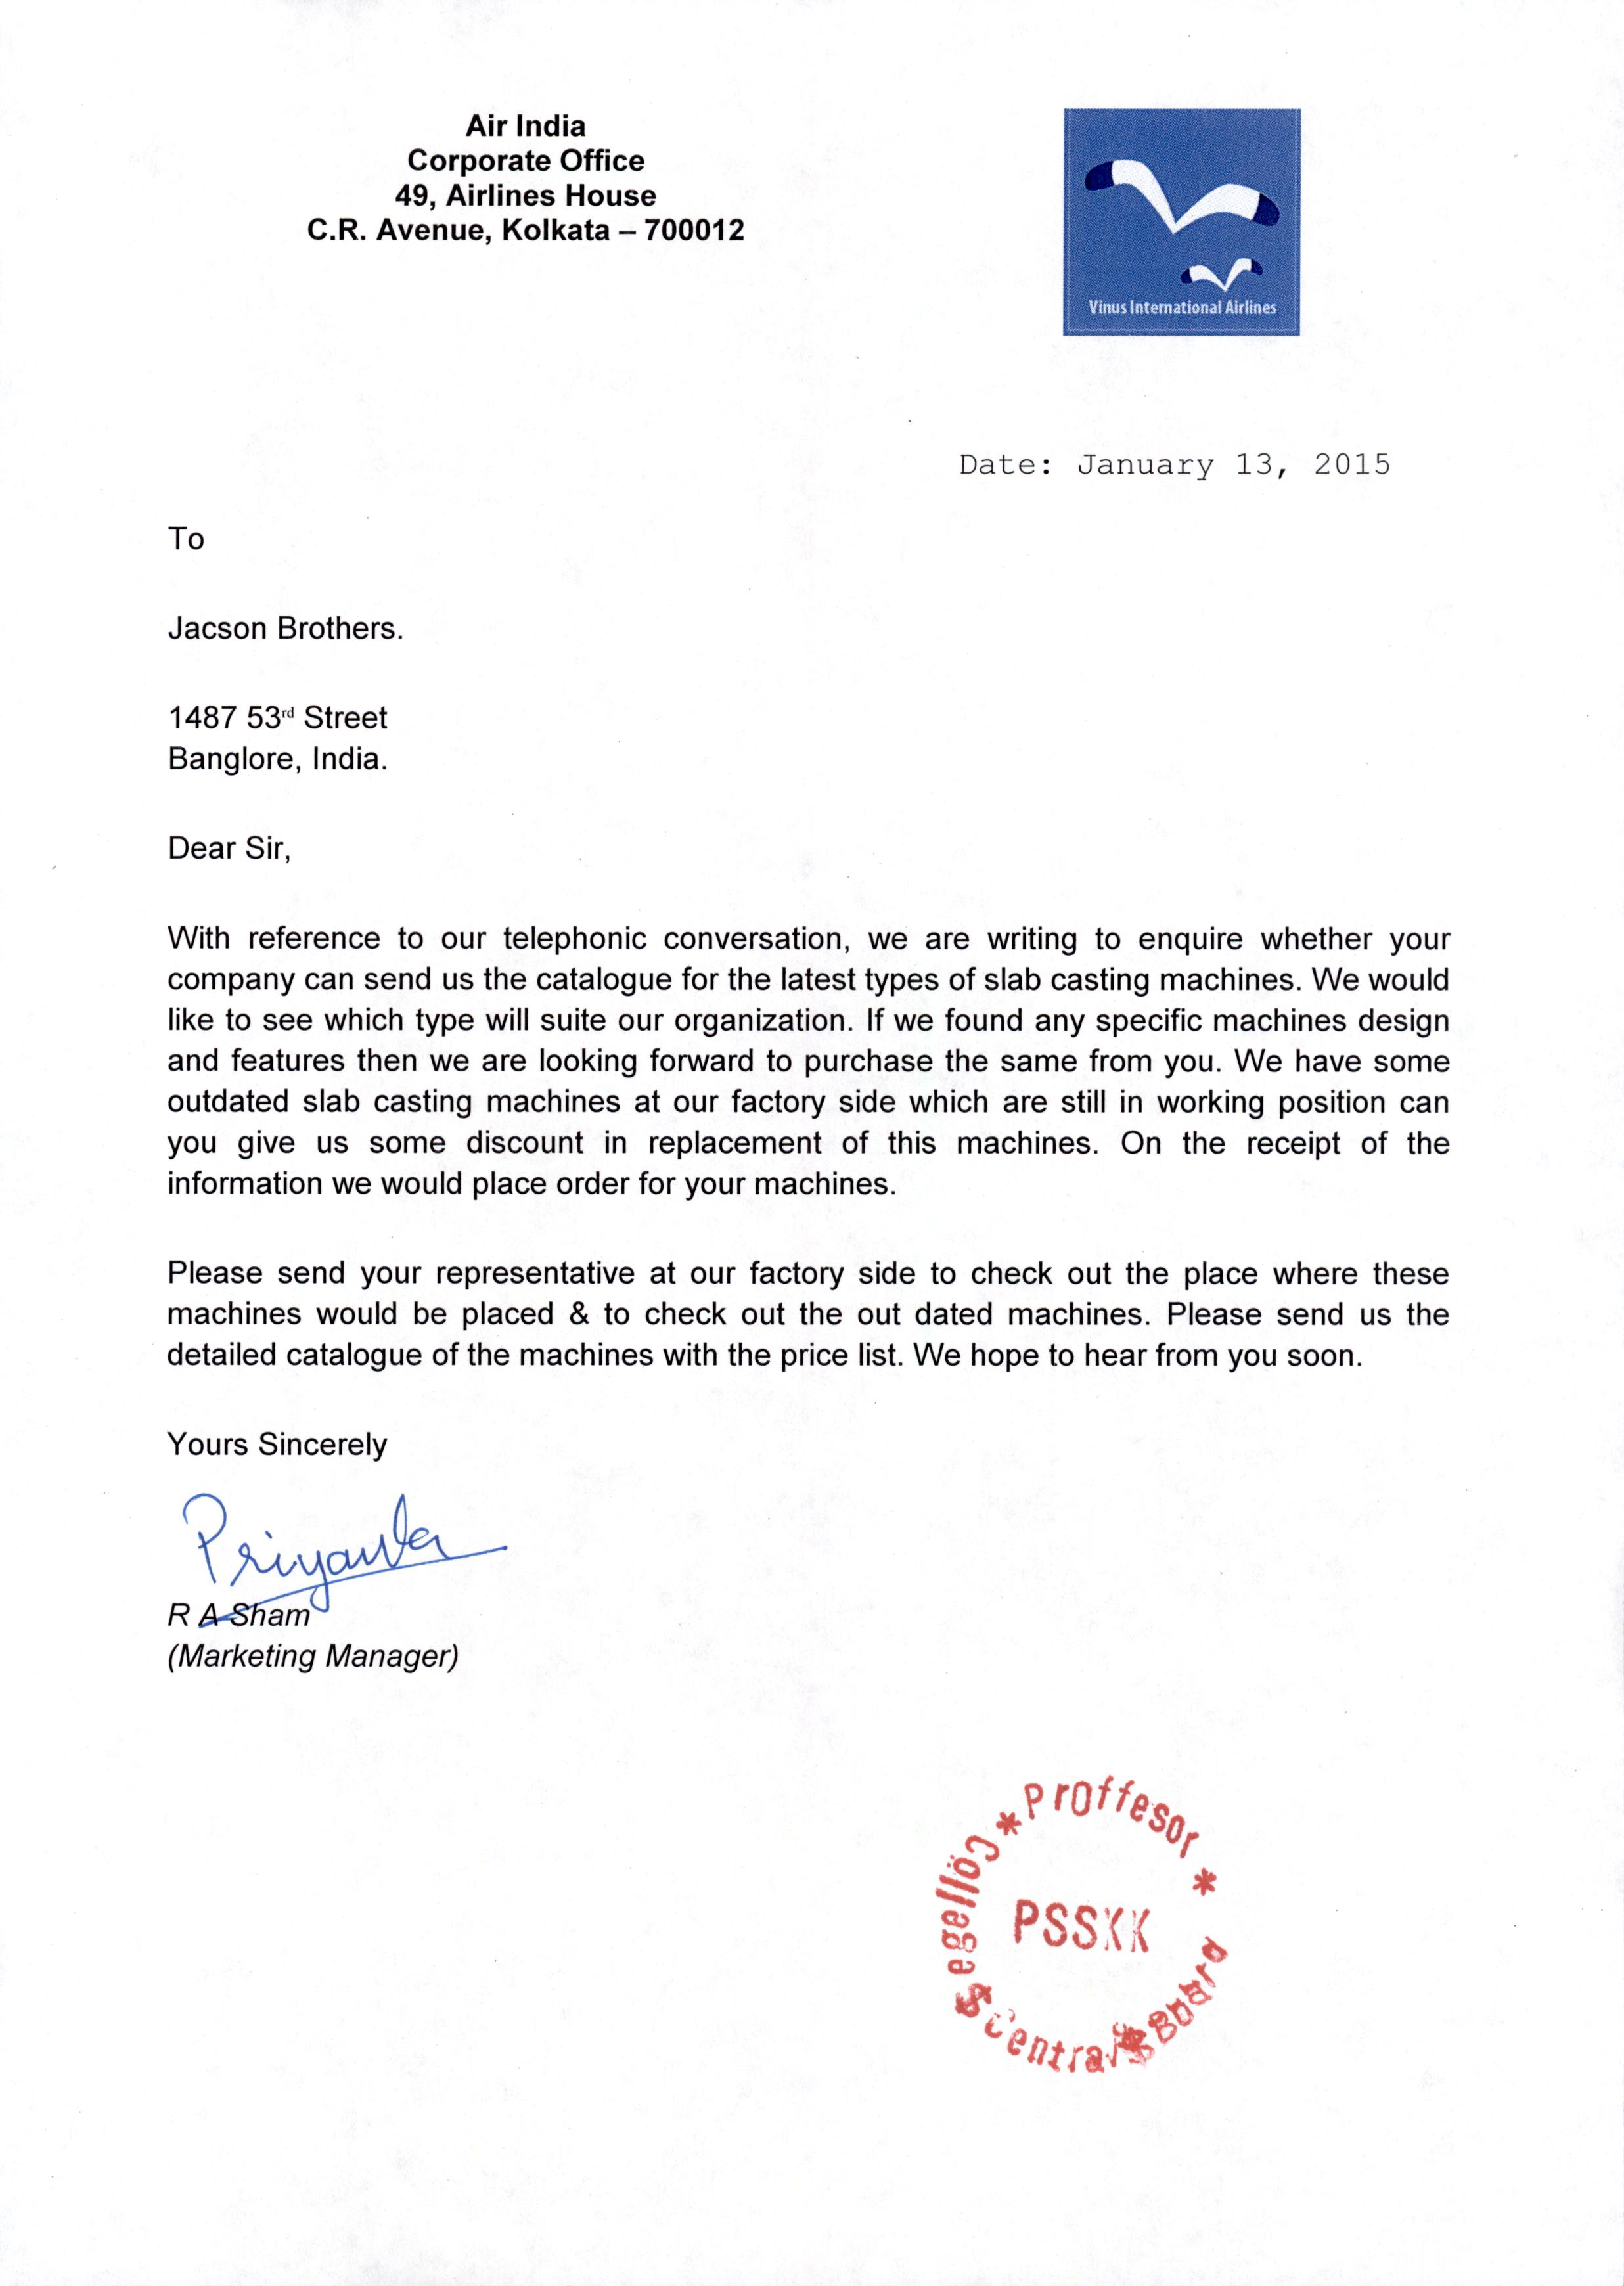Signature: (170, 1483, 518, 1604)
